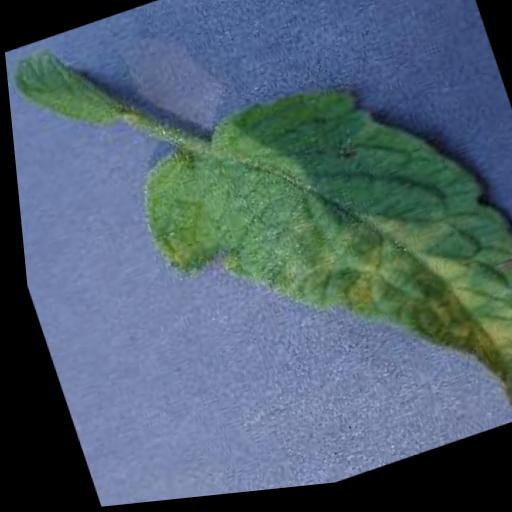Leaf Mold: (118, 38, 512, 503)
